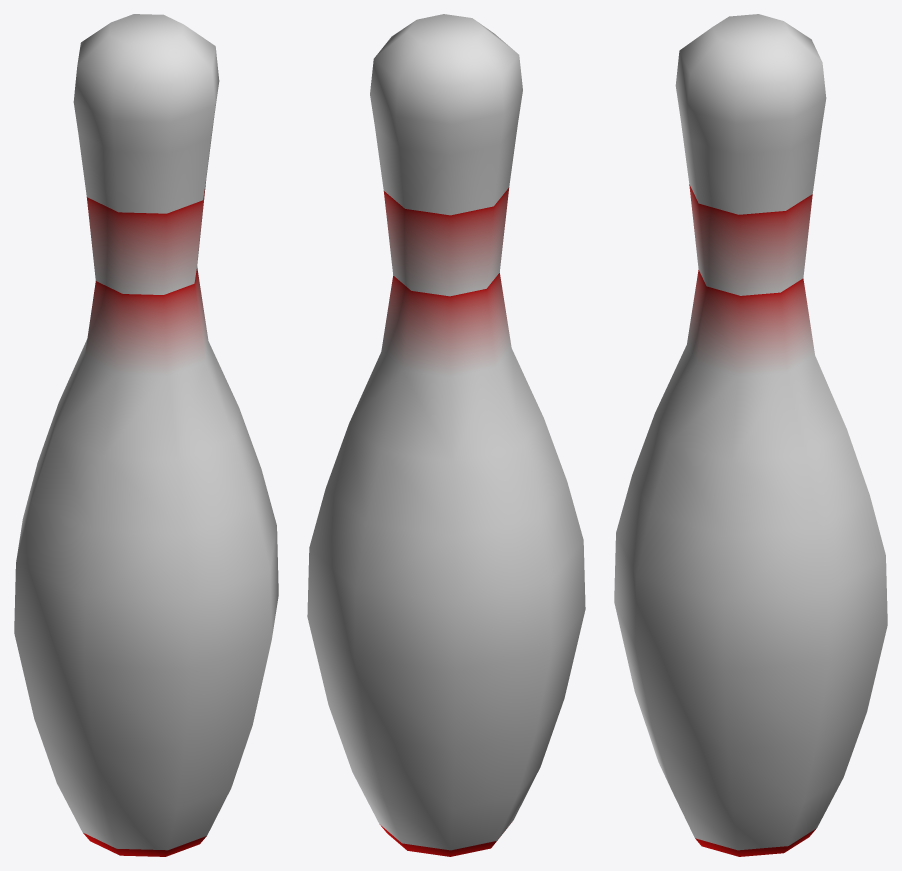
The model's file is Fbx_Bowling_Pin_Collider.fbx.
3 views of the same model, side by side, from view 1: azimuth 30°, elevation 25°; view 2: azimuth 150°, elevation 25°; view 3: azimuth 270°, elevation 25° (orthographic).
Visible parts, largest first — view 1: Col_BowlingPin; view 2: Col_BowlingPin; view 3: Col_BowlingPin.
Part boxes in pixels (x1,y1,x2,y2): Col_BowlingPin: [14, 14, 278, 856]; Col_BowlingPin: [307, 14, 585, 856]; Col_BowlingPin: [614, 14, 887, 856].
Bounding box in the file's own units: 0.2438 × 0.7961 × 0.2438.
